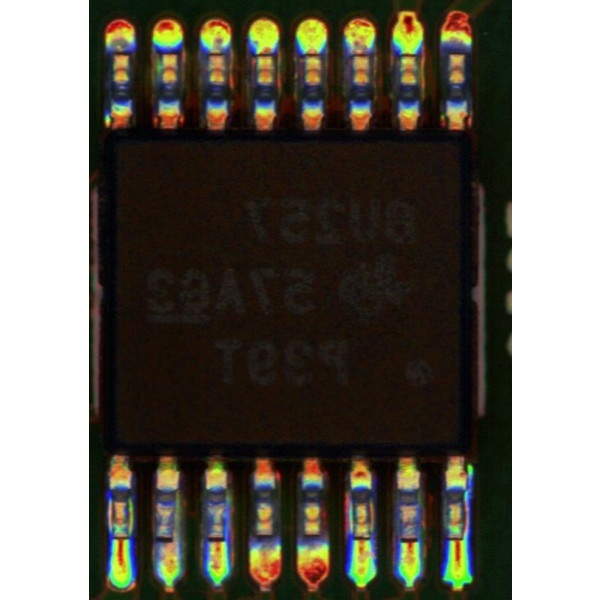Bad_podu: (257, 46, 275, 64), (400, 533, 419, 549), (352, 48, 370, 63), (159, 532, 173, 551), (209, 532, 225, 547), (306, 47, 321, 63), (111, 532, 129, 545), (451, 532, 464, 548), (355, 532, 369, 545)
Bad_qiaojiao: (466, 462, 475, 538)
